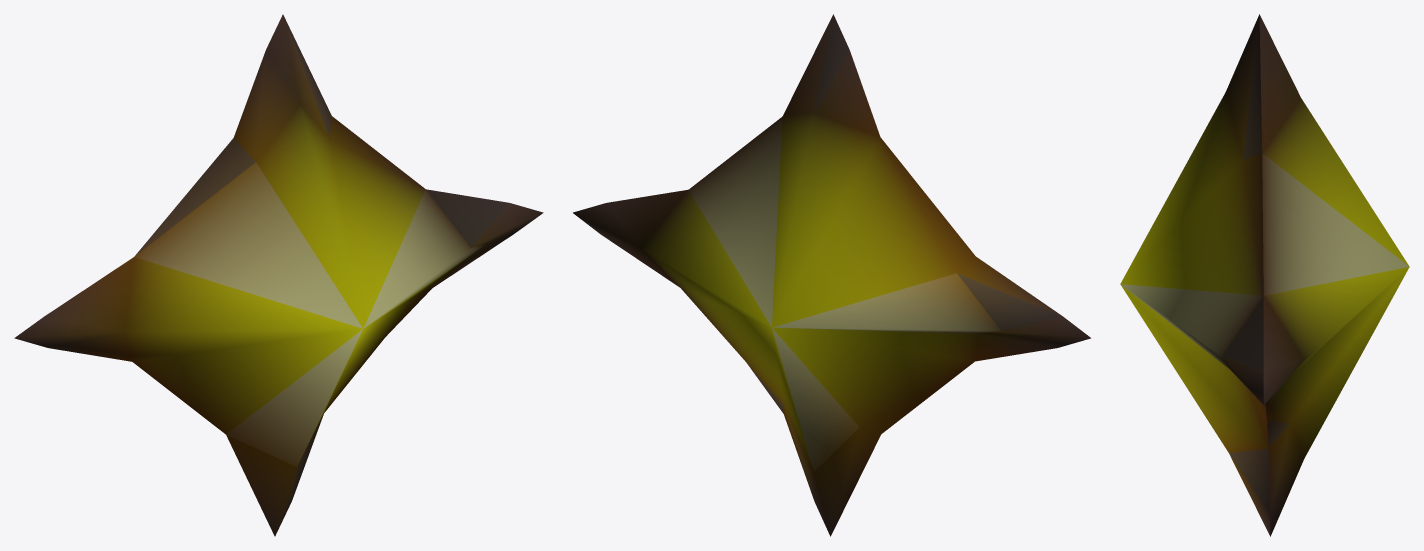
Rendered from Star_01.fbx.
The picture shows the model from 3 angles, left to right: view 1: azimuth 30°, elevation 25°; view 2: azimuth 150°, elevation 25°; view 3: azimuth 270°, elevation 25°; orthographic projection.
Parts seen in each view (by area): view 1: Star_01; view 2: Star_01; view 3: Star_01.
Boxes of the visible parts, bbox=[...] form: Star_01: bbox=[14, 14, 543, 536]; Star_01: bbox=[573, 14, 1090, 536]; Star_01: bbox=[1120, 14, 1409, 536].
Size of the model in its own units: 810 by 771 by 386.
